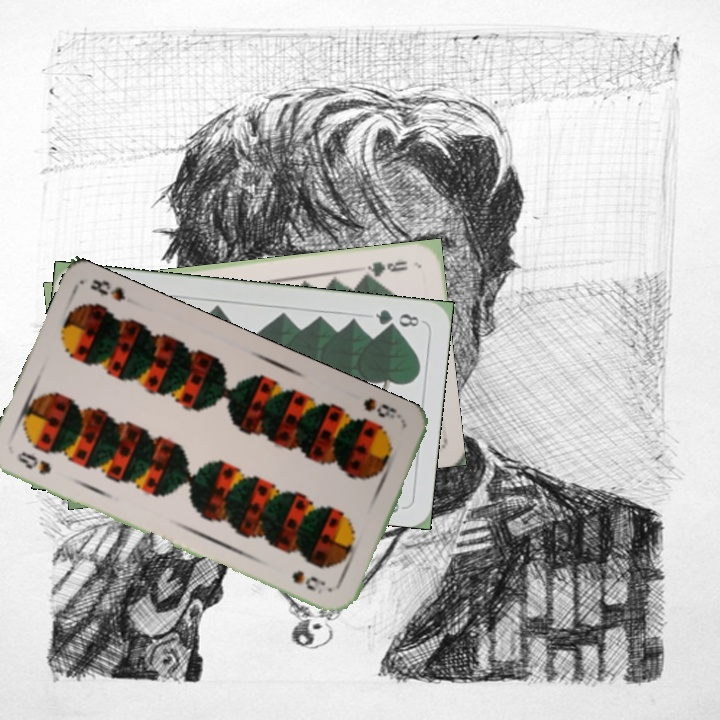G8: (371, 305, 422, 331)
G9: (359, 257, 411, 281)
S8: (359, 394, 408, 432), (13, 447, 54, 477)
